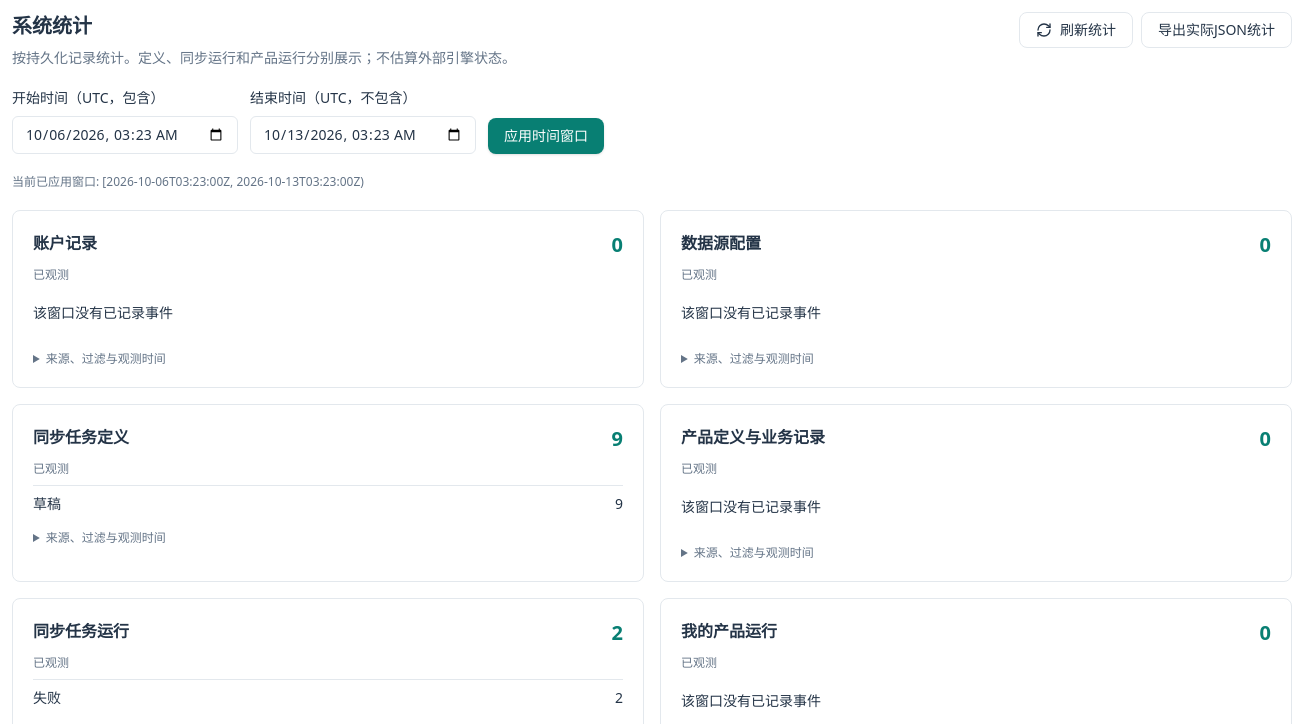
Persisted statistics and observed scope › hides cached counts when the server denies the refreshed statistics
Expected: the heading "同步任务定义" is shown, [33, 425, 129, 453]
Click the button "刷新统计" at {"x": 1076, "y": 30}, box [1019, 12, 1133, 48]
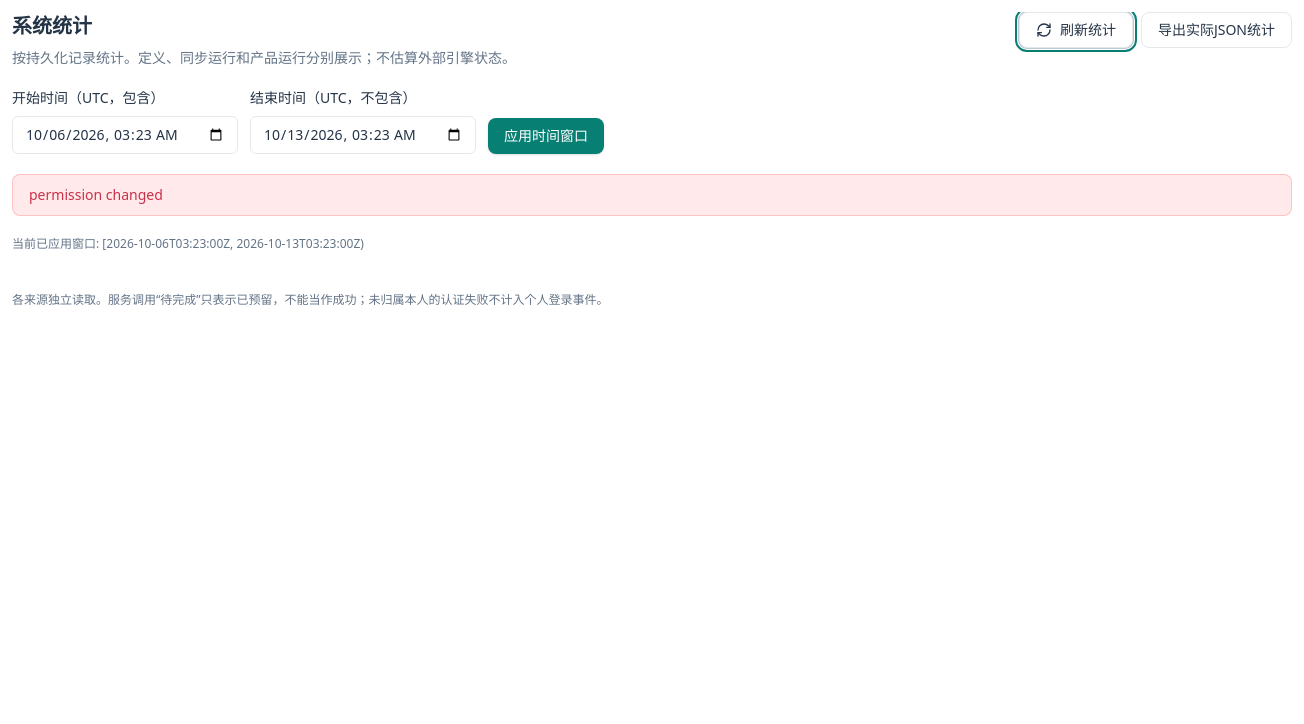
Expected: the heading "同步任务定义" is gone
